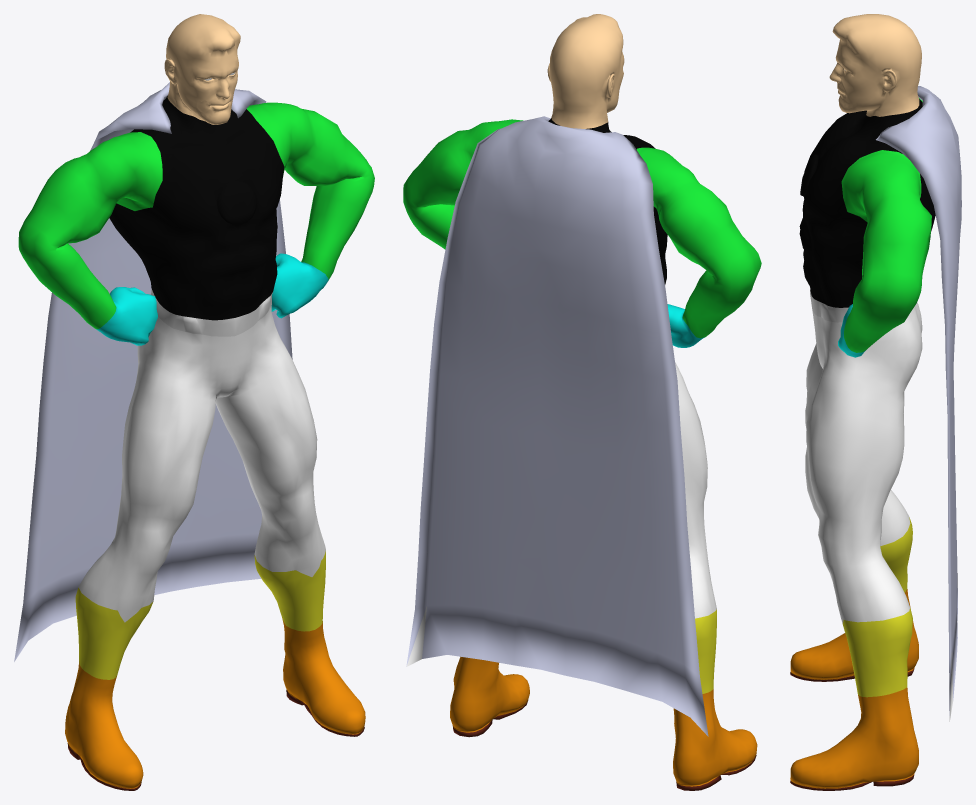
Rendered from superopenmaterialsshades.fbx.
The picture shows the model from 3 angles, left to right: view 1: azimuth 30°, elevation 25°; view 2: azimuth 150°, elevation 25°; view 3: azimuth 270°, elevation 25°; orthographic projection. The views are drawn at different scales.
Visible parts, largest first — view 1: SuperMan; view 2: SuperMan; view 3: SuperMan.
Boxes of the visible parts, left/top/right/bottom form: SuperMan: left=14, top=14, right=374, bottom=790; SuperMan: left=403, top=14, right=761, bottom=790; SuperMan: left=790, top=14, right=961, bottom=790.
Size of the model in its own units: 39.56 by 78.7 by 17.2.
